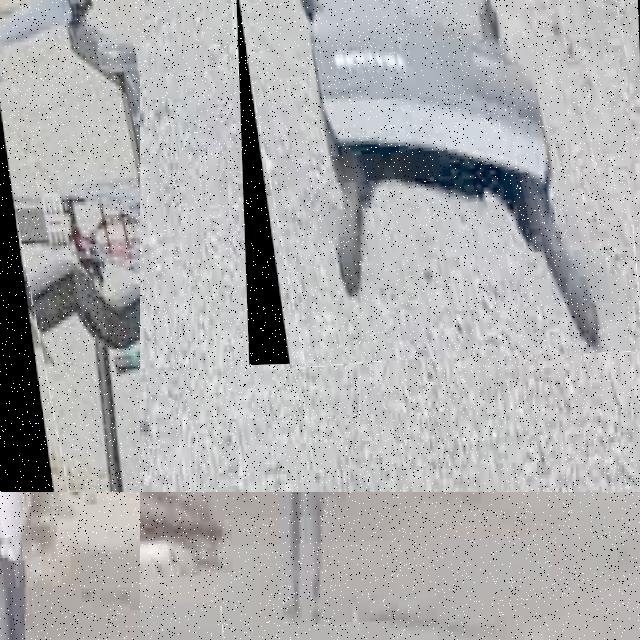0: (234, 0, 636, 364), (140, 492, 223, 640)
drone: (0, 0, 140, 492)
